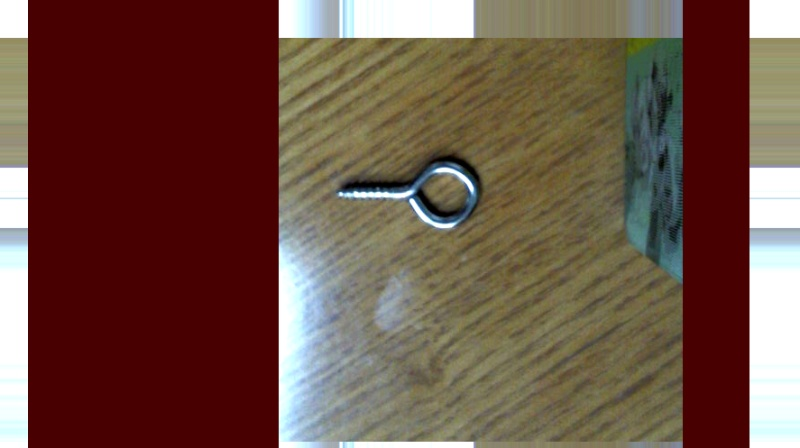O001: (334, 151, 487, 234)
